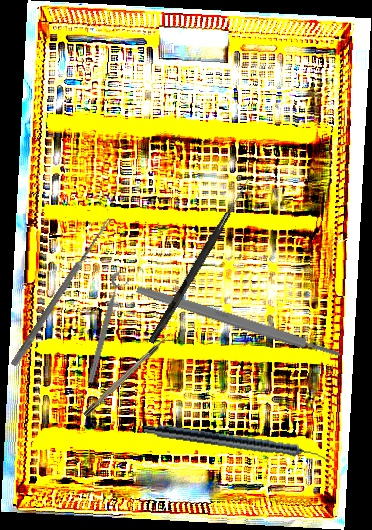Fixation Ring: (84, 269, 132, 387)
Handpiece: (142, 422, 331, 465)
Hook Surgical: (148, 177, 251, 346), (82, 330, 174, 418)
Scalpel Handle: (135, 283, 342, 361)
Surgical Spoon: (10, 216, 113, 368)
